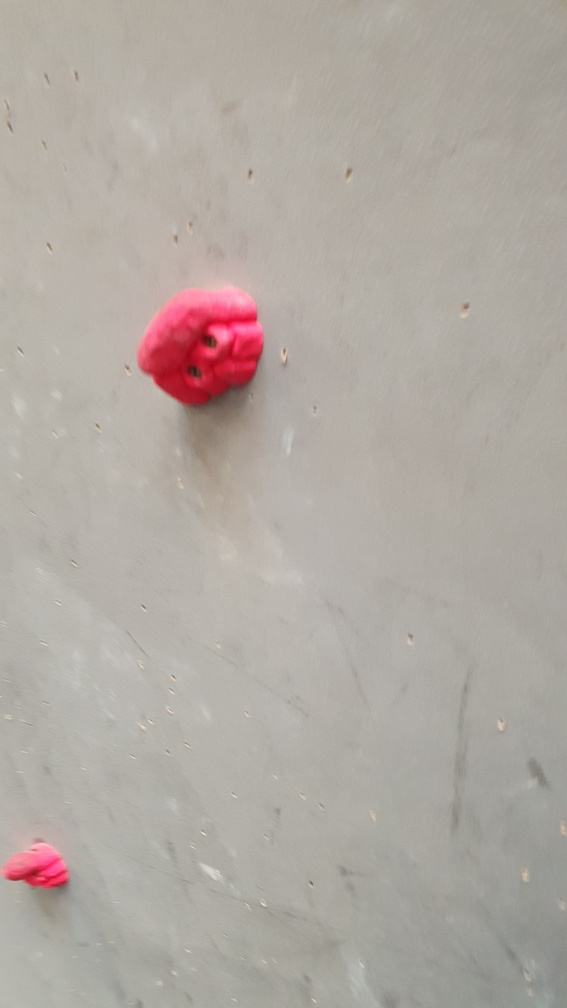Jug: (133, 285, 272, 407), (1, 839, 75, 893)
